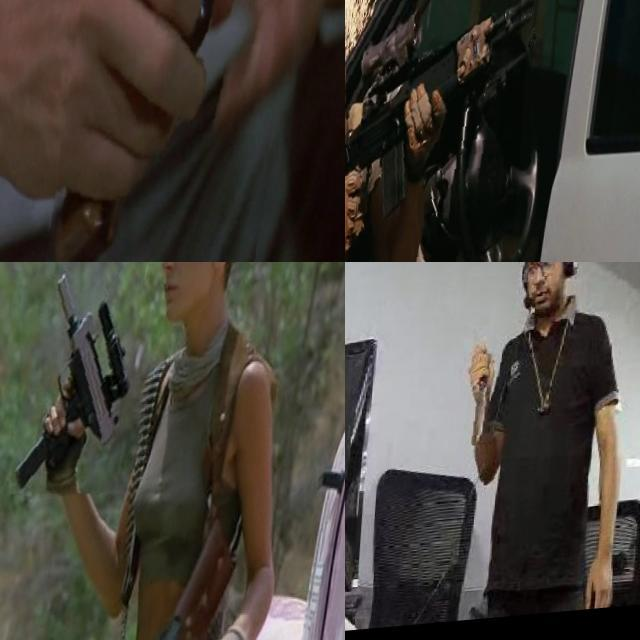-: (472, 358, 506, 452)
gun-knife-thesis - v11 Yolov5 augmented: (59, 0, 314, 262), (345, 0, 532, 262), (16, 262, 145, 503)
